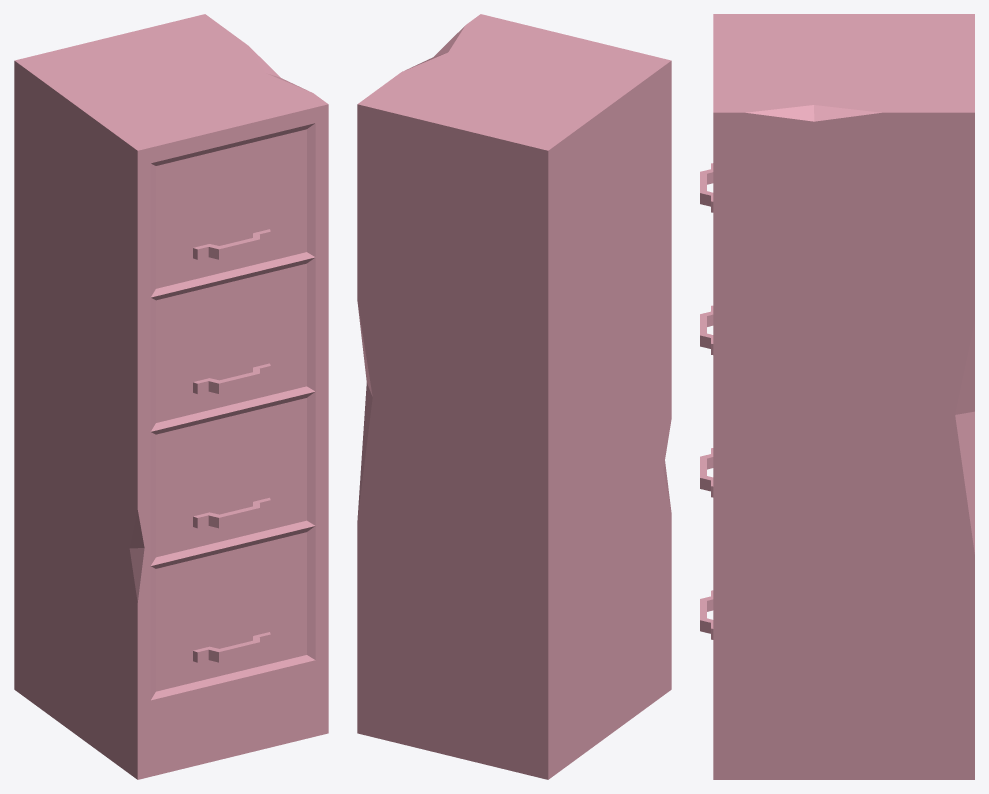
The model's file is FilingCabinet.fbx.
3 renders of one model, left to right at view 1: azimuth 30°, elevation 25°; view 2: azimuth 150°, elevation 25°; view 3: azimuth 270°, elevation 25°, orthographic. The views are drawn at different scales.
Parts seen in each view (by area): view 1: FilingCabinet; view 2: FilingCabinet; view 3: FilingCabinet.
Boxes of the visible parts, x1,y1,x2,y2 form: FilingCabinet: [14, 14, 328, 779]; FilingCabinet: [357, 14, 671, 779]; FilingCabinet: [700, 14, 974, 779].
Bounding box in the file's own units: 47.99 × 151 × 56.44.
